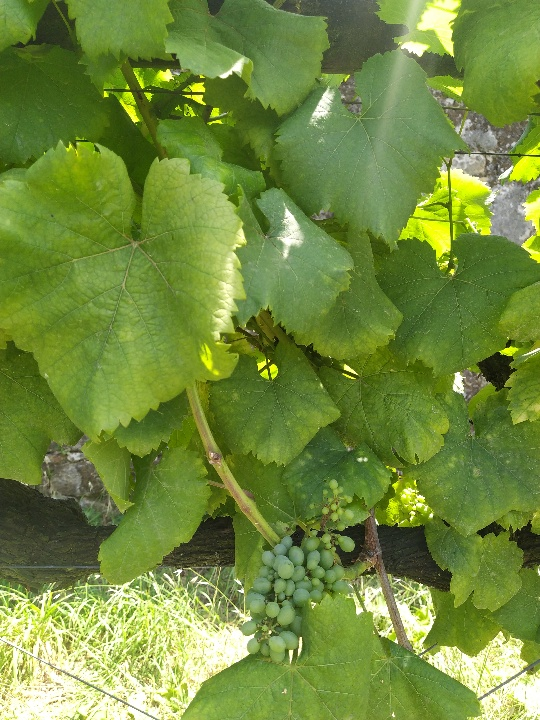grape: (239, 528, 352, 666)
